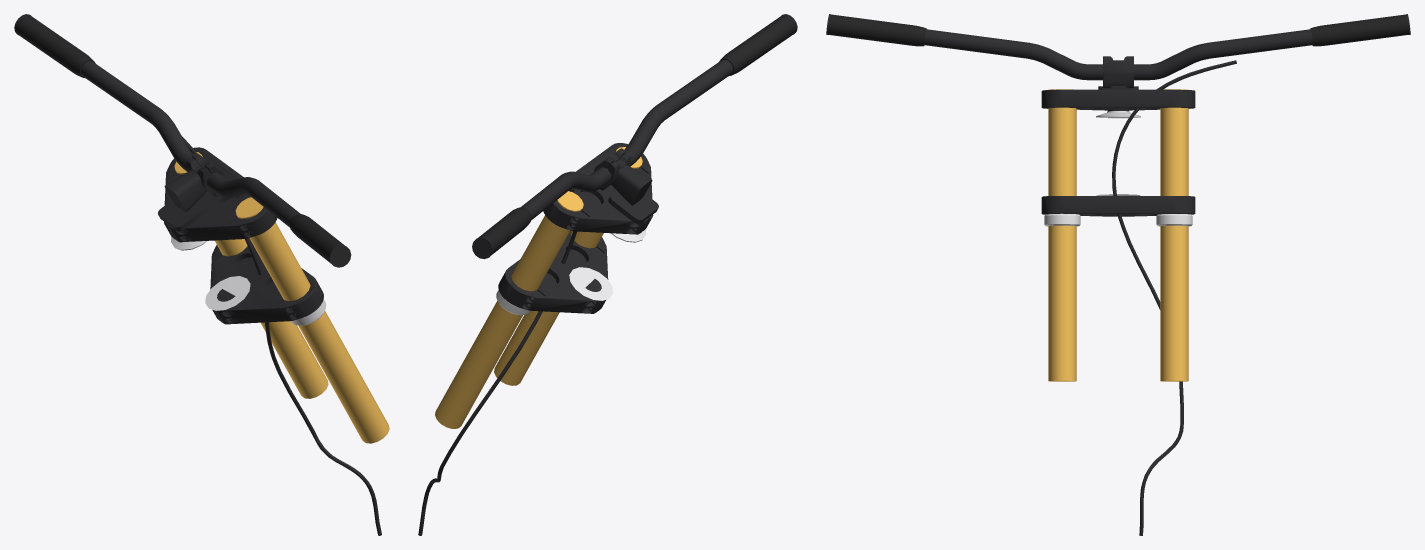
File: dh_steer_nl.glb
The picture shows the model from 3 angles, left to right: view 1: azimuth 30°, elevation 25°; view 2: azimuth 150°, elevation 25°; view 3: azimuth 270°, elevation 25°; orthographic projection. The views are drawn at different scales.
Parts seen in each view (by area): view 1: steer; view 2: steer; view 3: steer.
Part boxes in pixels (box(x1,y1,x2,y2)): steer: box(14, 14, 389, 535); steer: box(418, 14, 797, 535); steer: box(826, 14, 1410, 535).
Size of the model in its own units: 0.3246 by 0.6344 by 0.787.
